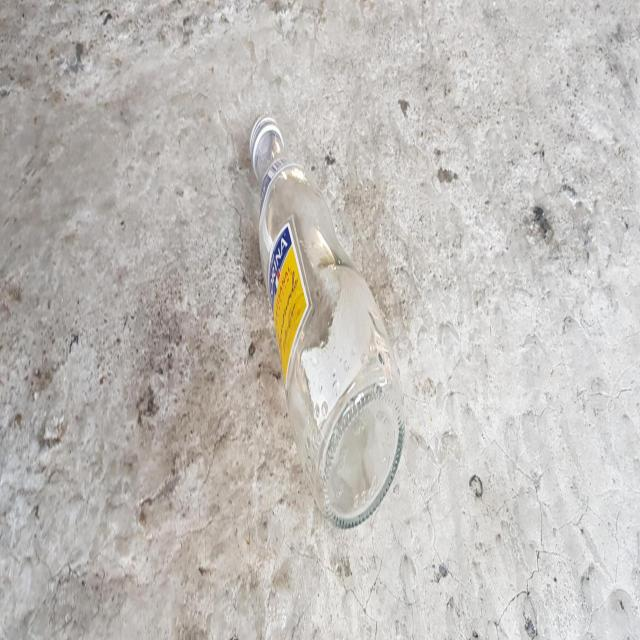glass: (250, 114, 405, 528)
